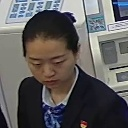head: (21, 39, 80, 88)
